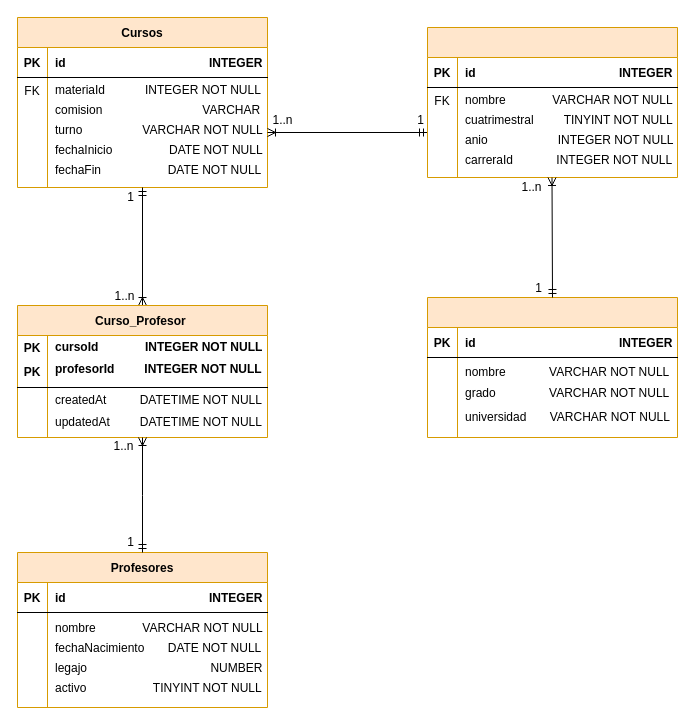
The diagram is 695 pixels wide and 726 high, and some of its shapes have lost their labels. The box of each missing label's shape, as (x1, y1, x2, y2) in pixels:
Carreras: (426, 296, 678, 438)
Materia: (426, 26, 678, 178)
